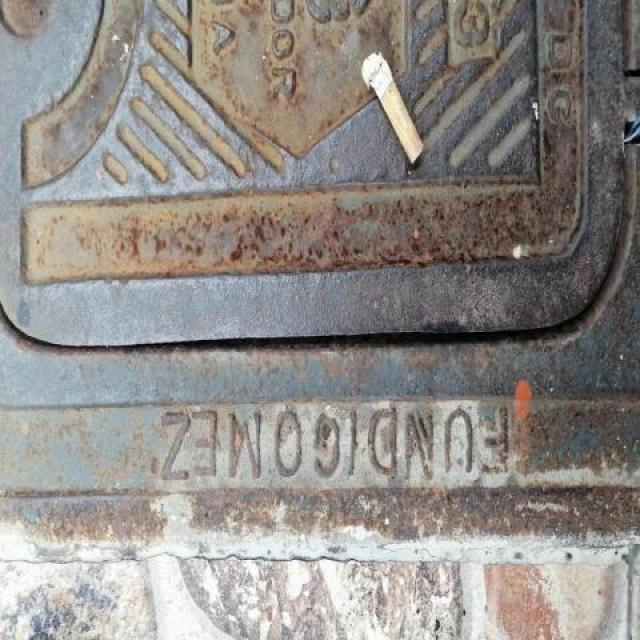non-organic waste: (355, 46, 430, 167)
